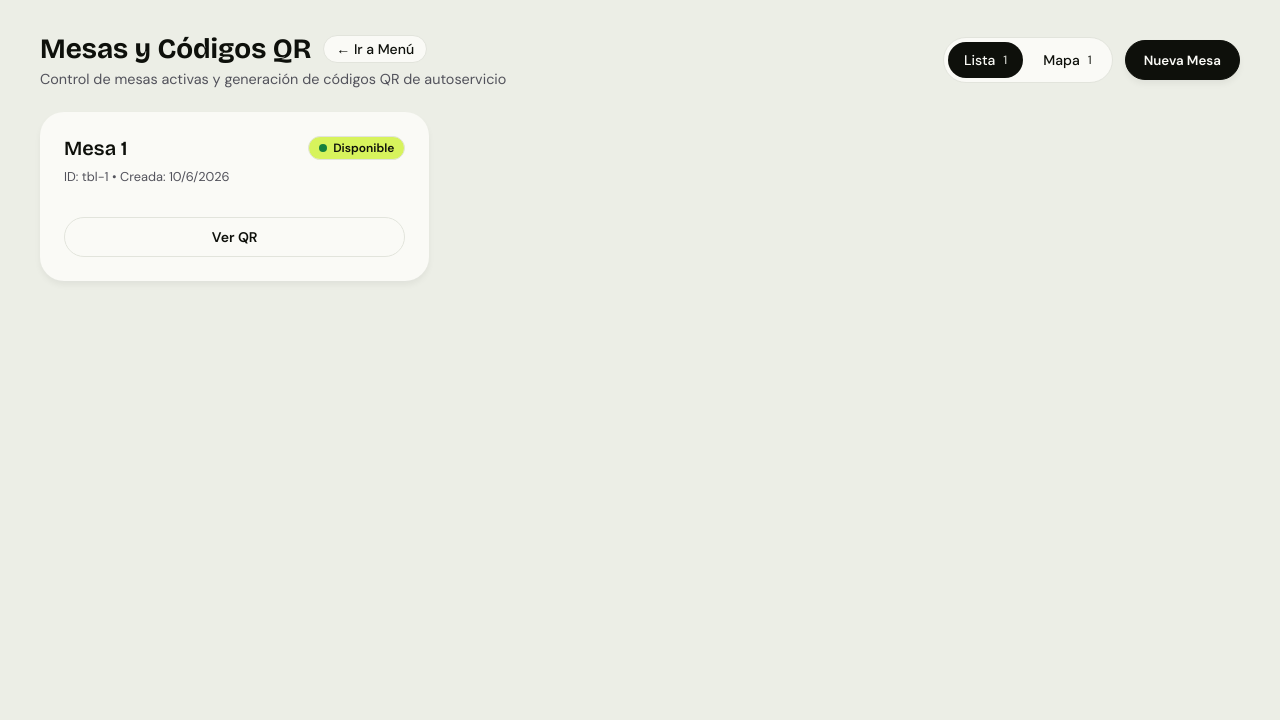
Scenario: Gestión de Mesas en Admin Dashboard (Tests Rojo/Verde) › 2. Crear mesa envía POST /v1/tables con { label } y refresca la lista usando tableId
Check: the heading "Mesa 1" is shown, box [64,136,127,160]
Click the button "Nueva Mesa". click: x=1182, y=60
box: [1125,40,1240,80]
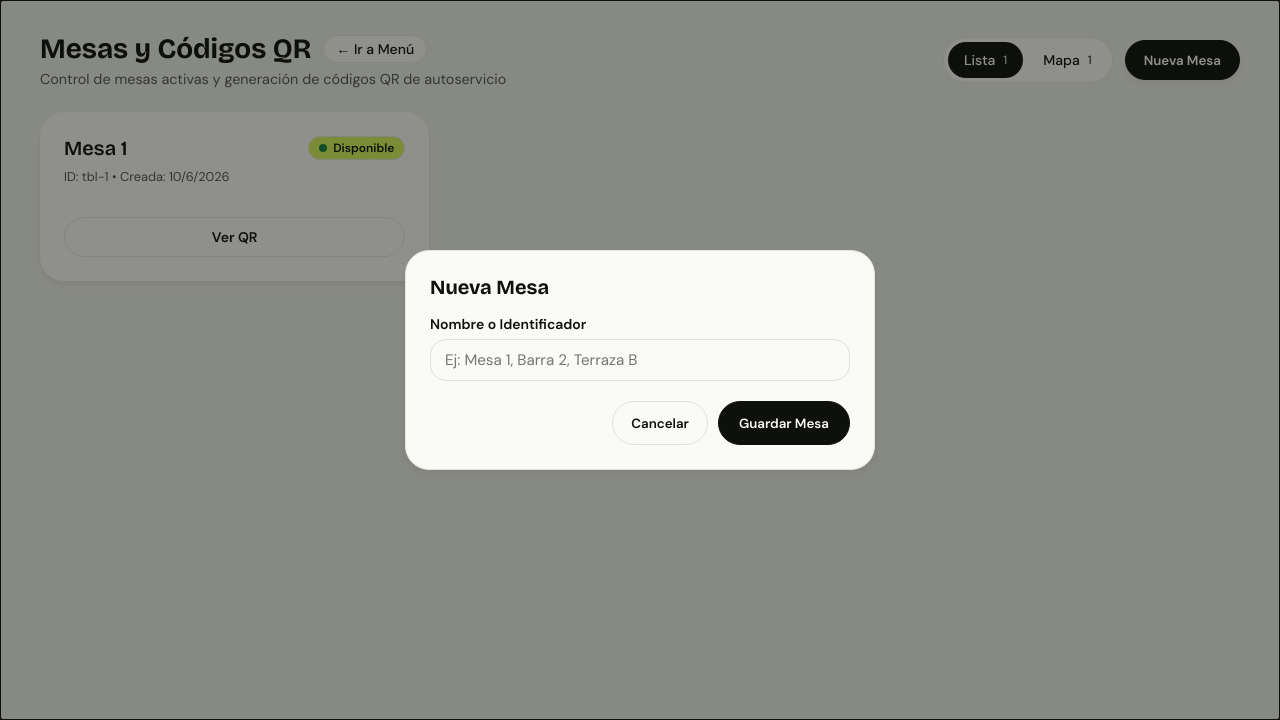
Type "Mesa Nueva 5" into the field labelled "Nombre o Identificador". click: x=640, y=360
box: [430,339,850,381]
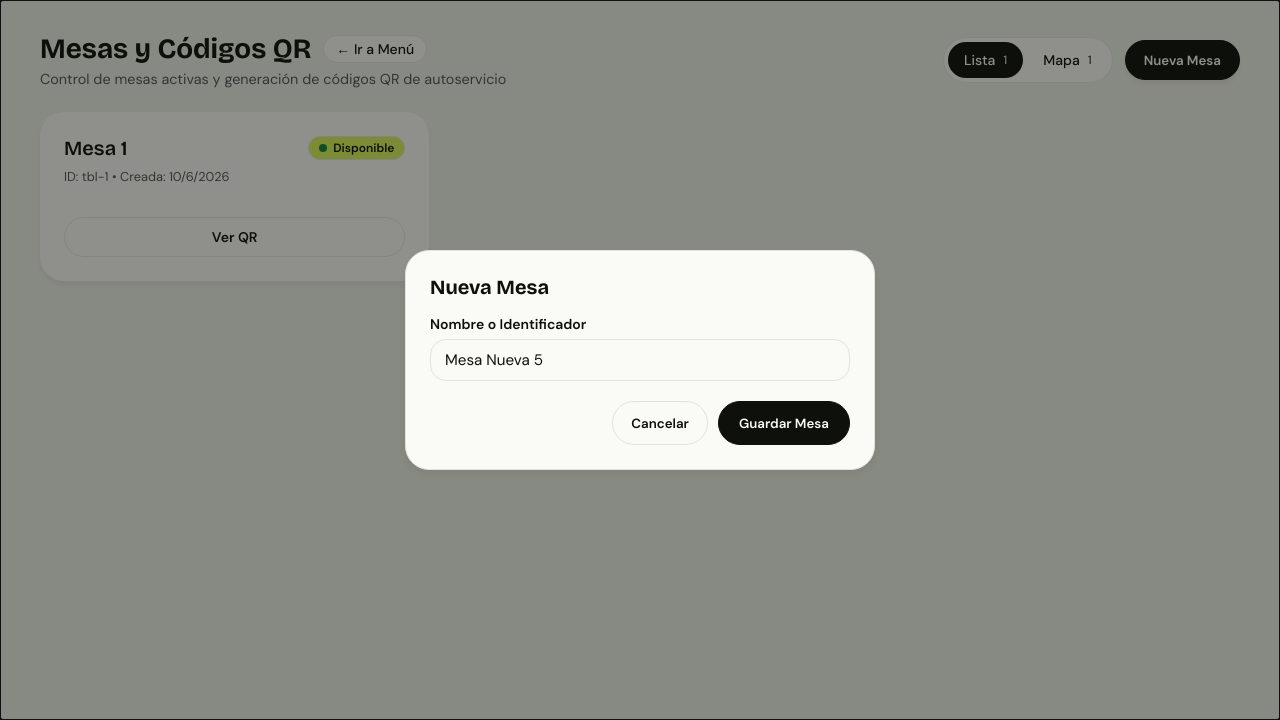
Click the button "Guardar Mesa". click: x=784, y=423
box: [718,401,850,445]
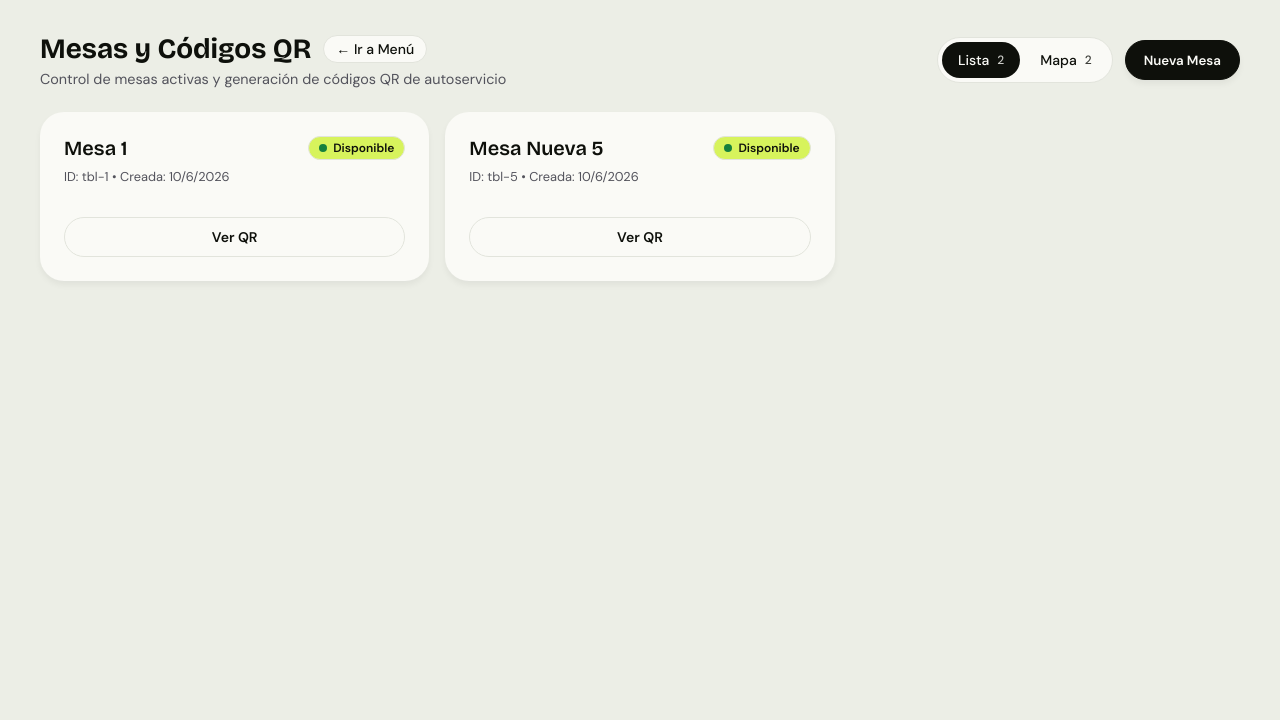
Check: the heading "Mesa Nueva 5" is shown, box [469,136,604,160]
